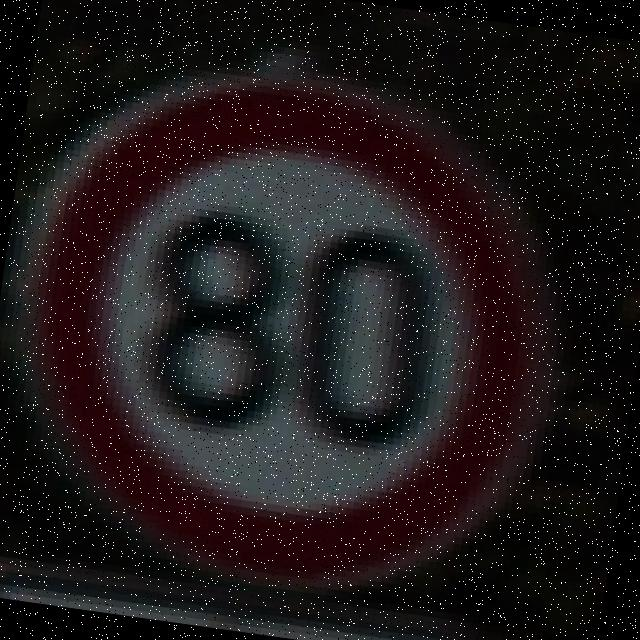Ograniczenie predkosci do 80: (0, 46, 564, 612)
